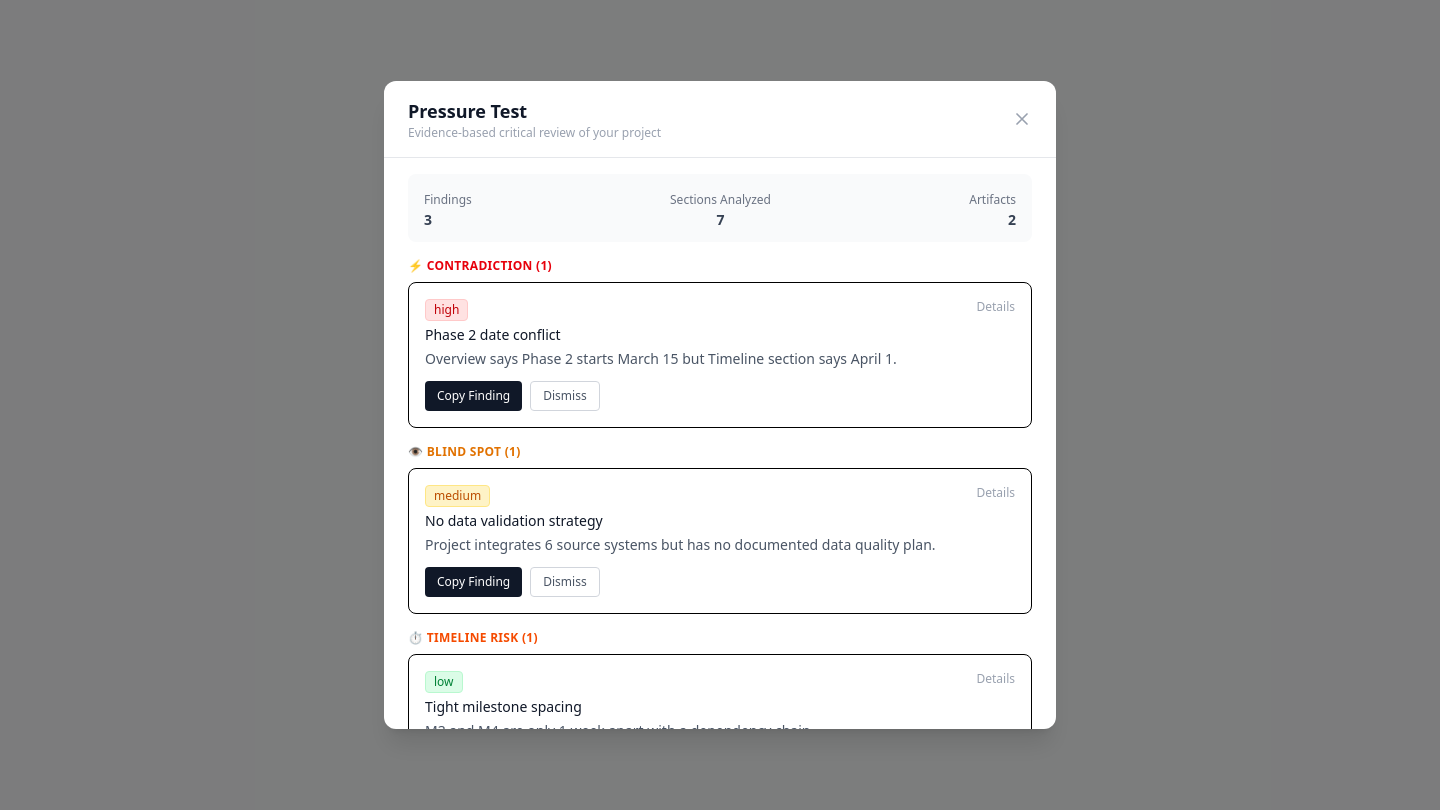
Test: ReviewPanel › dismisses finding on click
Click the button "Dismiss" below "Phase 2 date conflict". click: (565, 396)
box: [530,381,600,411]
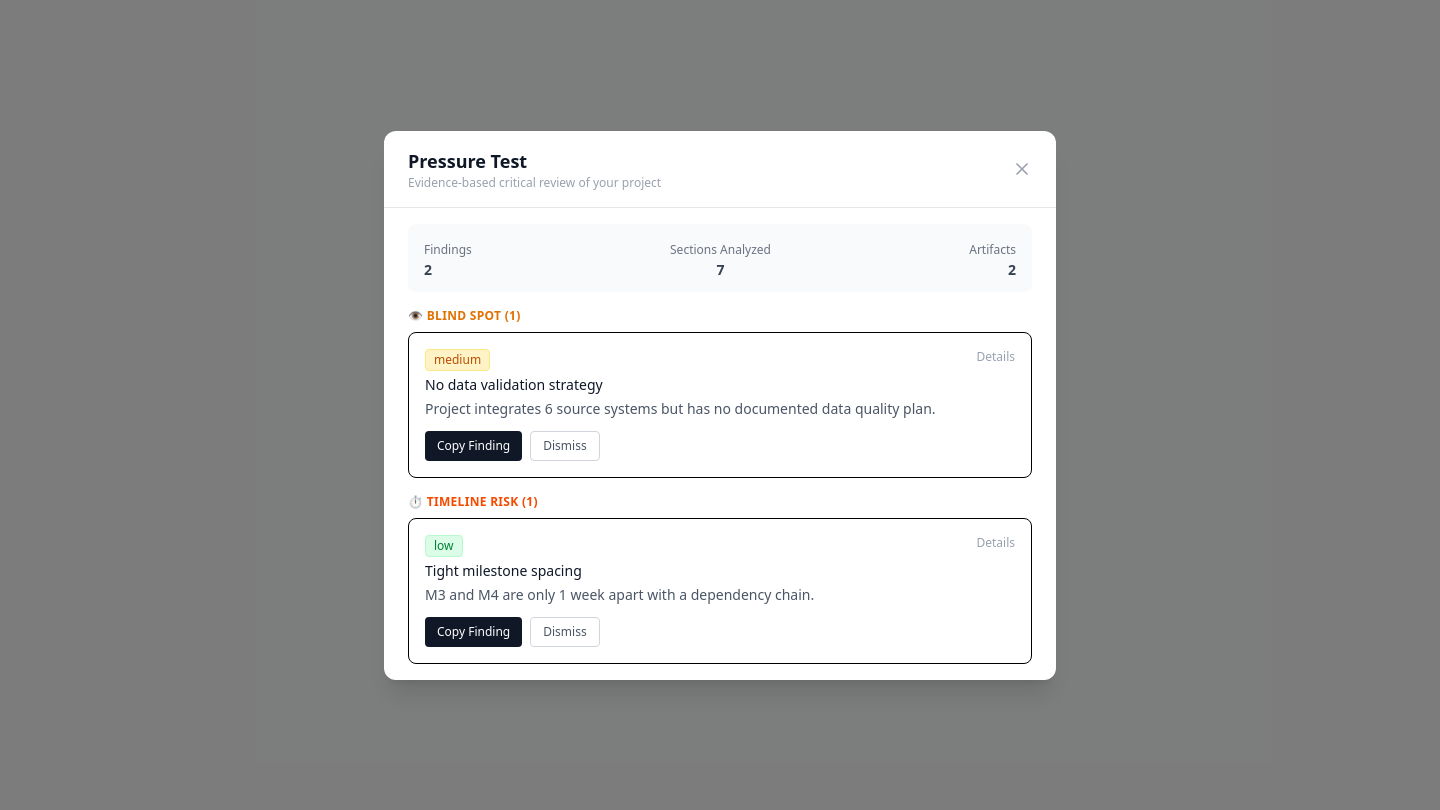
Expected: the text "No data validation strategy" is shown, [425,374,603,394]
Result: the text "Phase 2 date conflict" is gone
